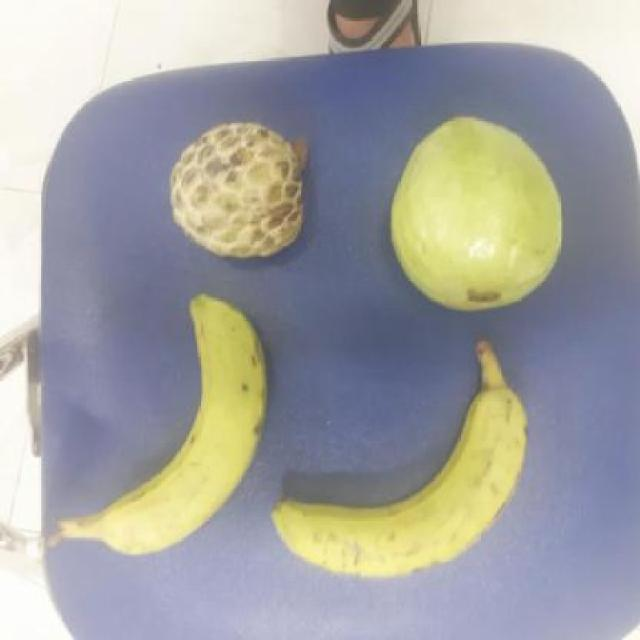banana: (272, 392, 530, 583), (87, 297, 267, 561)
guava: (384, 116, 568, 316)
sugar apple: (170, 122, 312, 260)
